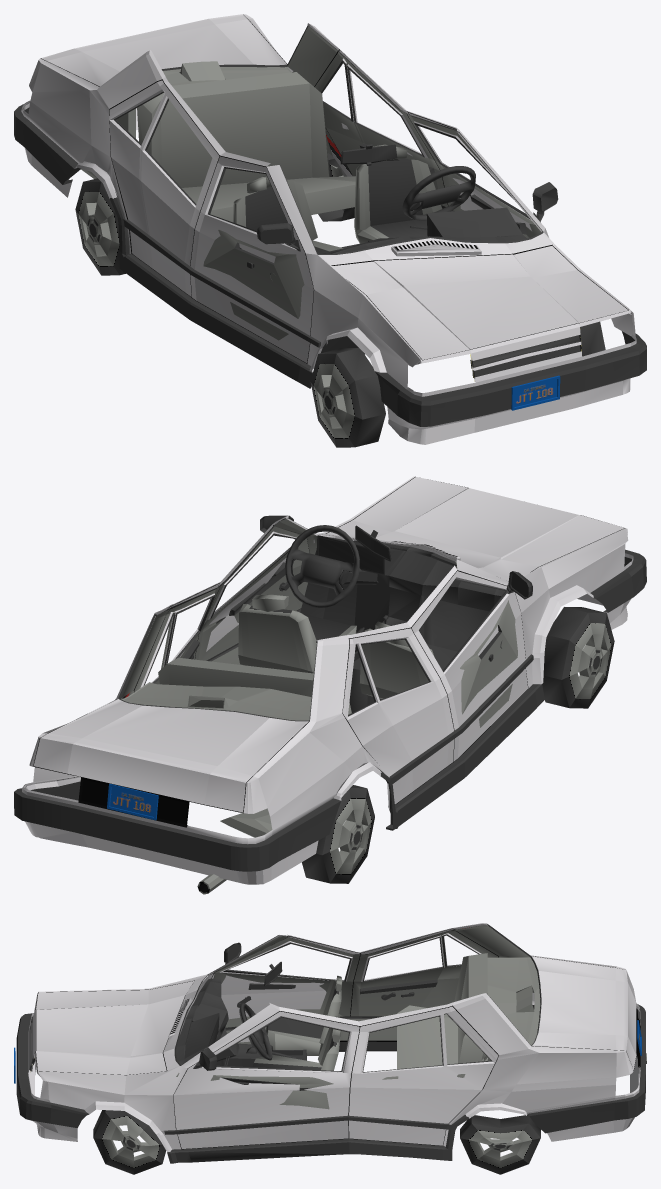
Rendered from Car_3.fbx.
3 renders of one model, top to bottom at view 1: azimuth 30°, elevation 25°; view 2: azimuth 150°, elevation 25°; view 3: azimuth 270°, elevation 25°, orthographic. The views are drawn at different scales.
Parts seen in each view (by area): view 1: Car_3; view 2: Car_3; view 3: Car_3.
Part boxes in pixels (<box>): Car_3: <box>14,14,646,447</box>; Car_3: <box>14,476,646,894</box>; Car_3: <box>14,923,646,1174</box>.
Size of the model in its own units: 174 by 130 by 432.
1 material, 1 textured.
